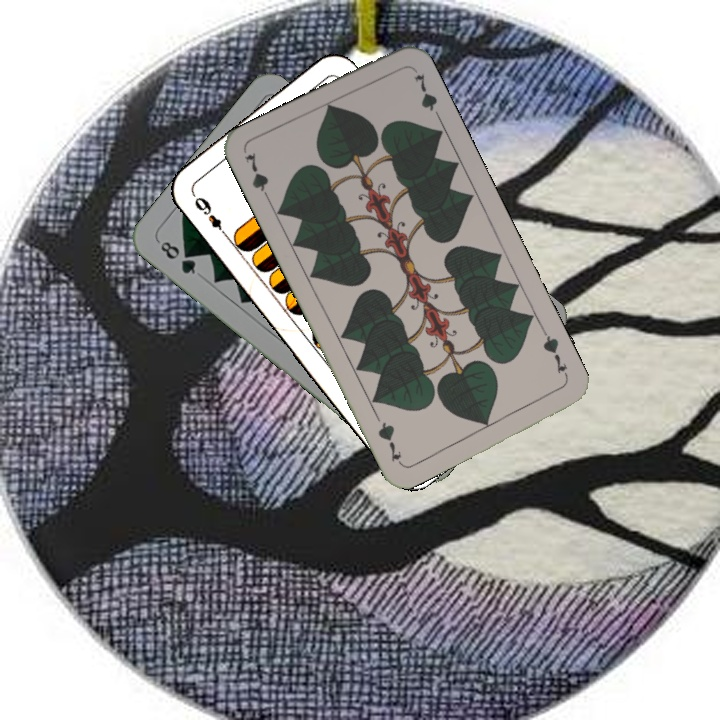E9: (189, 191, 231, 241)
G7: (240, 148, 274, 206), (538, 326, 572, 382)
G8: (154, 236, 199, 277)
